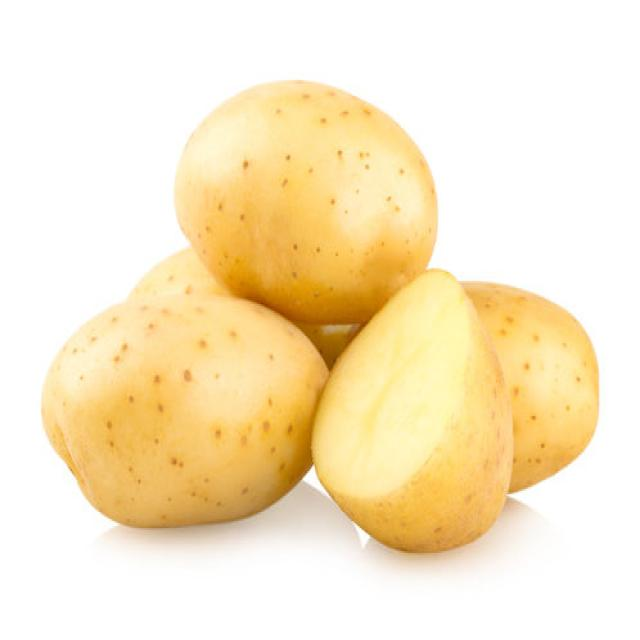Potato: (172, 77, 438, 327), (33, 311, 331, 515), (310, 267, 514, 553), (457, 278, 599, 494), (126, 246, 230, 300), (294, 320, 361, 368)
